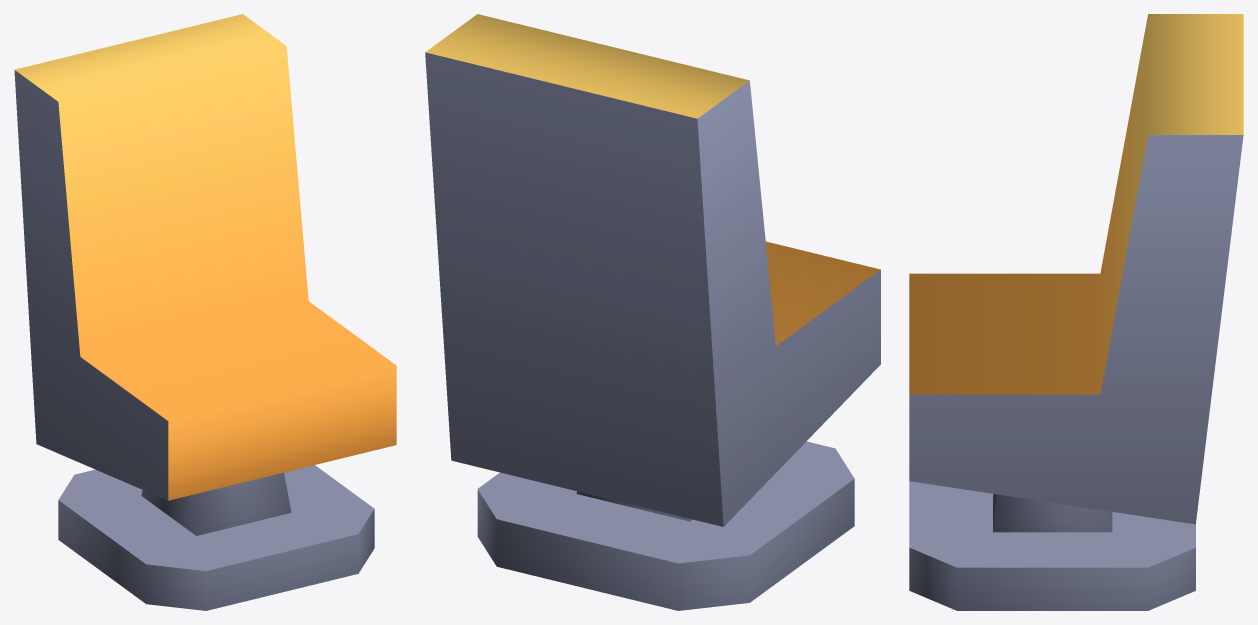
The model's file is kenney-space-station-chair.glb.
The picture shows the model from 3 angles, left to right: view 1: azimuth 30°, elevation 25°; view 2: azimuth 150°, elevation 25°; view 3: azimuth 270°, elevation 25°; orthographic projection. The views are drawn at different scales.
Parts seen in each view (by area): view 1: chair; view 2: chair; view 3: chair.
Boxes of the visible parts, box(x1,y1,x2,y2) form: chair: box(14, 14, 396, 610); chair: box(425, 14, 880, 610); chair: box(909, 14, 1243, 610).
Bounding box in the file's own units: 0.3 × 0.55 × 0.35.
1 material, 1 textured.
